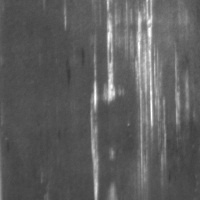scratches: (133, 1, 170, 134), (98, 1, 129, 106), (86, 78, 106, 200)
